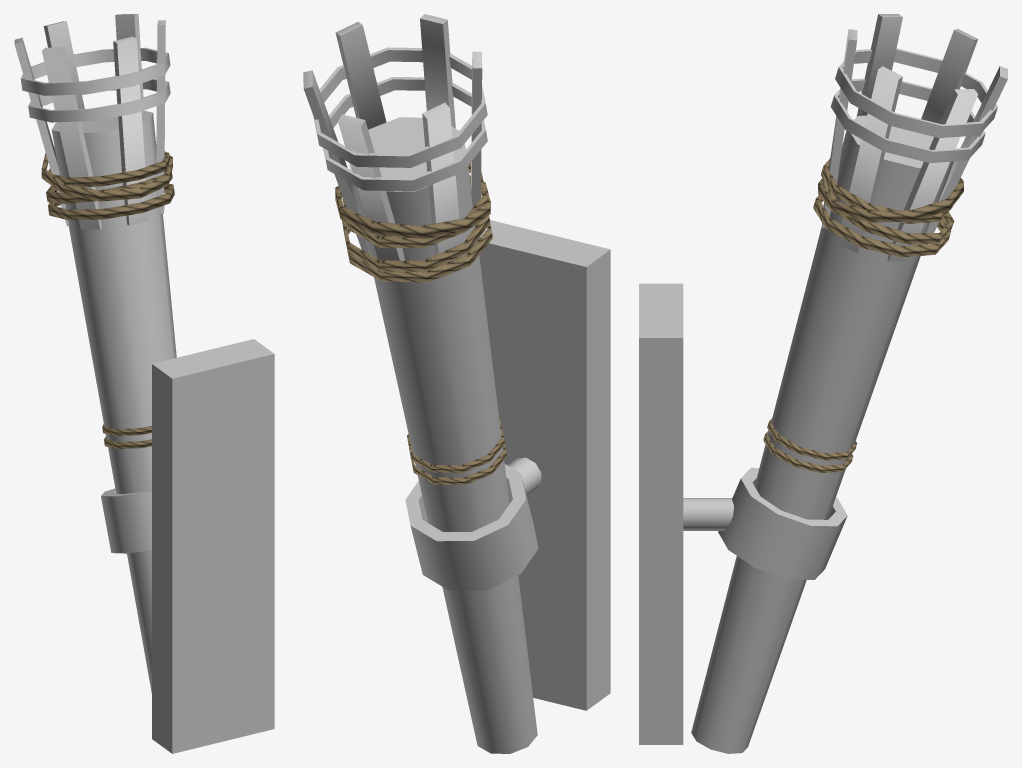
The model's file is torch.fbx.
3 renders of one model, left to right at view 1: azimuth 30°, elevation 25°; view 2: azimuth 150°, elevation 25°; view 3: azimuth 270°, elevation 25°, orthographic. The views are drawn at different scales.
Visible parts, largest first — view 1: 立方体, 円柱, 円柱.004, 円柱.006, 円柱.001; view 2: 立方体, 円柱, 円柱.004, 円柱.006, 円柱.001; view 3: 円柱, 立方体, 円柱.004, 円柱.006, 円柱.001.
Part boxes in pixels (x1,y1,x2,y2): 立方体: (152, 339, 274, 753); 円柱: (51, 110, 176, 693); 円柱.004: (14, 14, 170, 229); 円柱.006: (41, 146, 174, 448); 円柱.001: (101, 488, 151, 553); 立方体: (479, 220, 610, 710); 円柱: (349, 117, 537, 753); 円柱.004: (303, 14, 487, 282); 円柱.006: (335, 162, 506, 485); 円柱.001: (405, 464, 538, 590); 円柱: (691, 115, 953, 753); 立方体: (639, 283, 733, 744); 円柱.004: (822, 14, 1007, 261); 円柱.006: (763, 158, 963, 473); 円柱.001: (718, 467, 847, 579).
Bounding box in the file's own units: 31.6 × 158 × 74.15.
